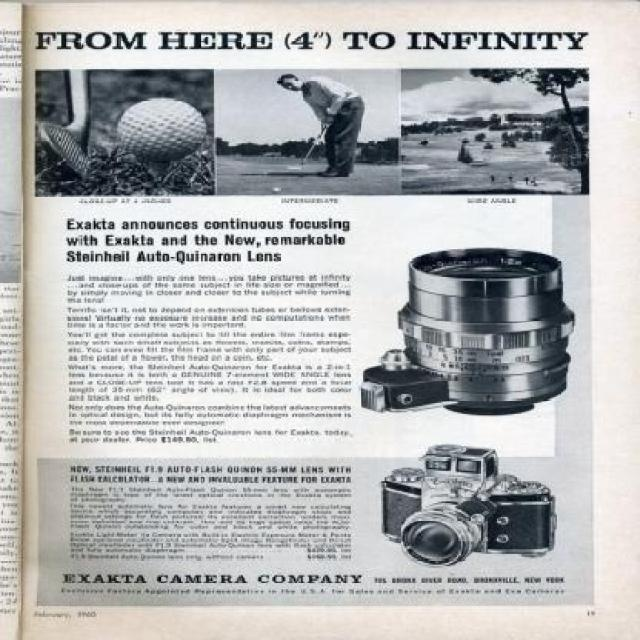obstacle: (274, 74, 366, 178)
